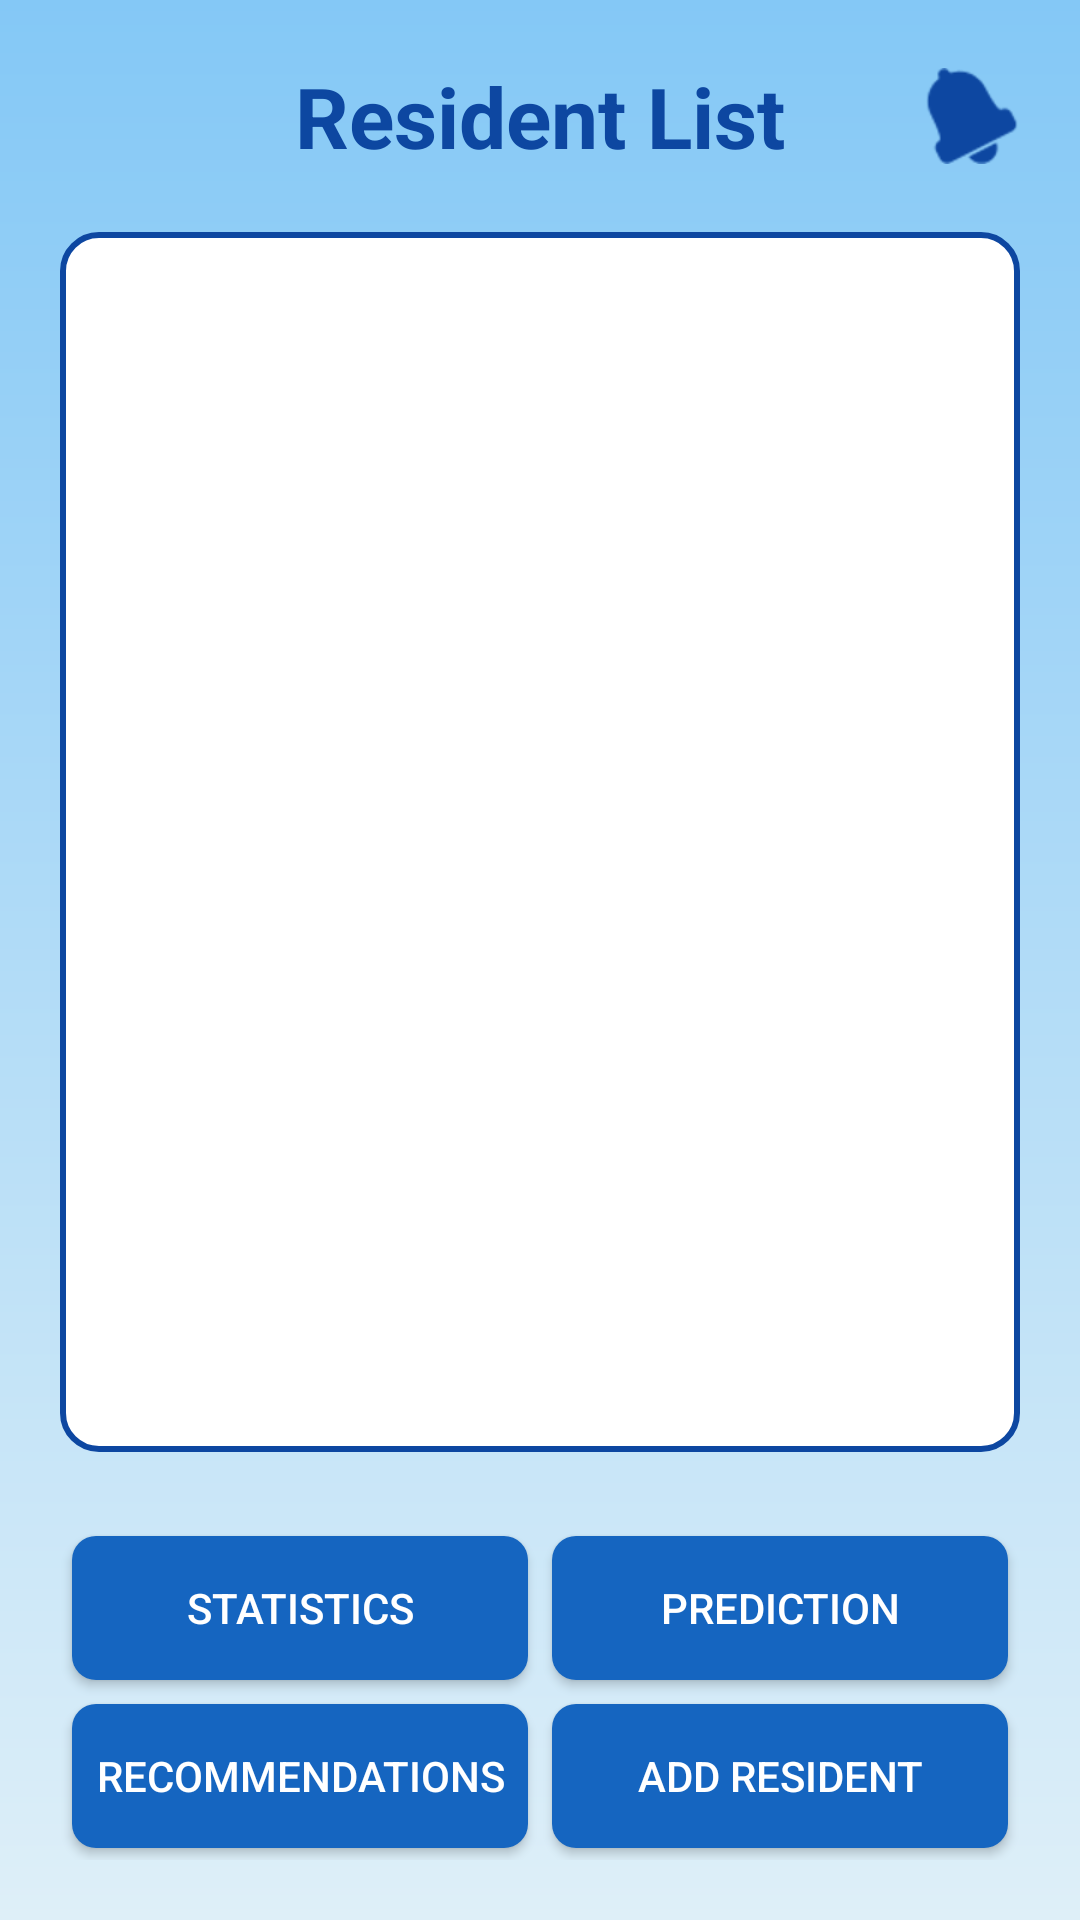

Icons on this 1080px×1920px Android screen, each with its box as (x1, y1, x2, y2):
popup reminder: (927, 68, 1017, 164)
